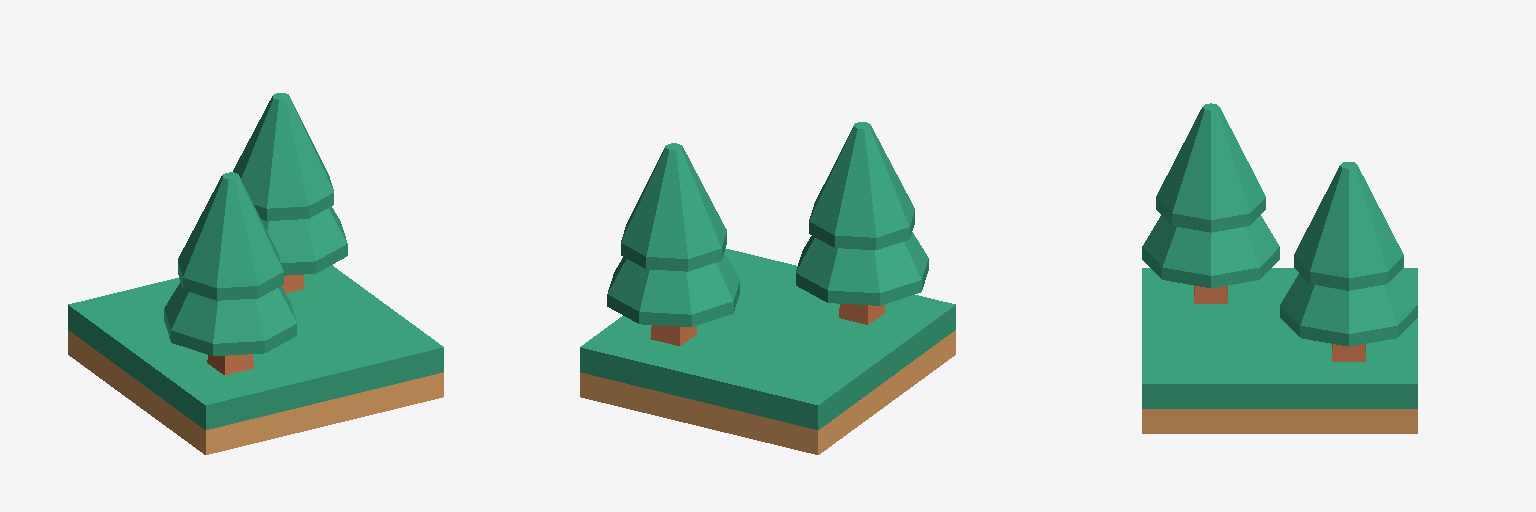
File: tile_treeDouble.obj
3 renders of one model, left to right at view 1: azimuth 30°, elevation 25°; view 2: azimuth 150°, elevation 25°; view 3: azimuth 270°, elevation 25°, orthographic.
Parts seen in each view (by area): view 1: tile_treeDouble, tree; view 2: tile_treeDouble, tree; view 3: tile_treeDouble, tree.
Boxes of the visible parts, <box> form: tile_treeDouble: <box>68,265,443,454</box>; tree: <box>164,93,347,375</box>; tile_treeDouble: <box>580,248,955,454</box>; tree: <box>607,122,928,345</box>; tile_treeDouble: <box>1142,268,1417,433</box>; tree: <box>1142,103,1417,361</box>.
Bounding box in the file's own units: 1 × 0.96 × 1.